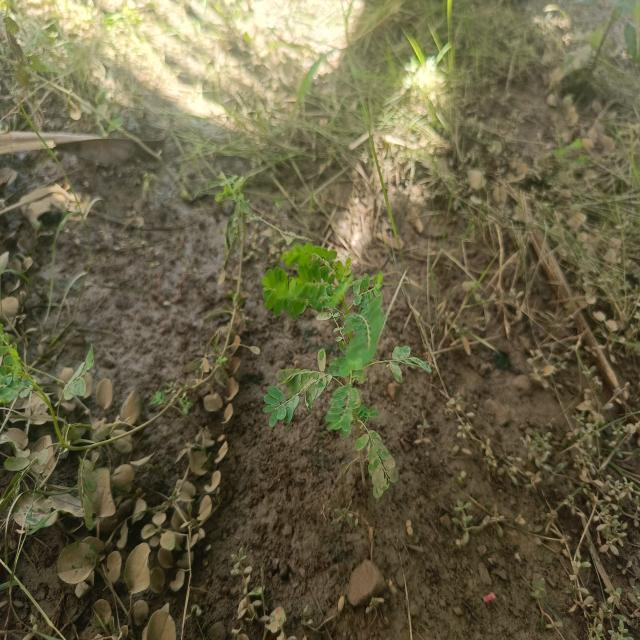weed: (260, 234, 404, 496)
